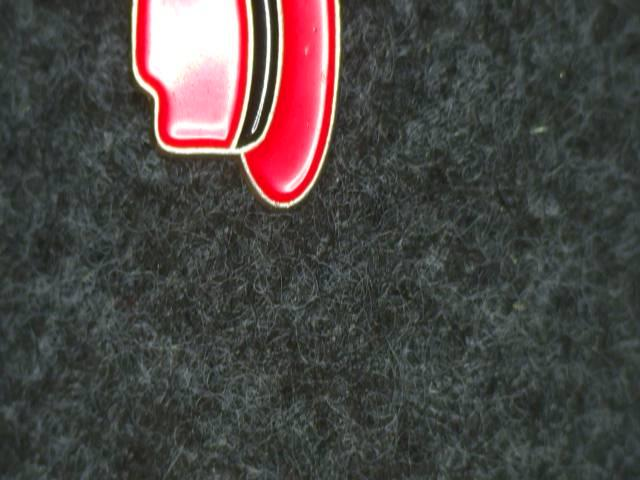Red-Hat: (114, 0, 371, 250)
